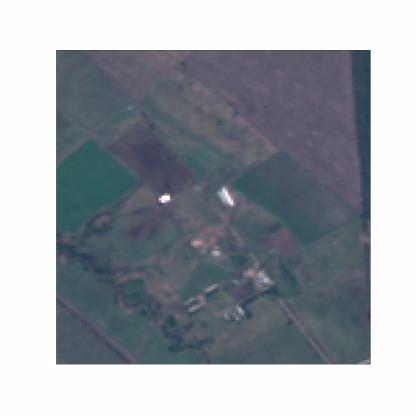silobolsa: (218, 184, 234, 207)
